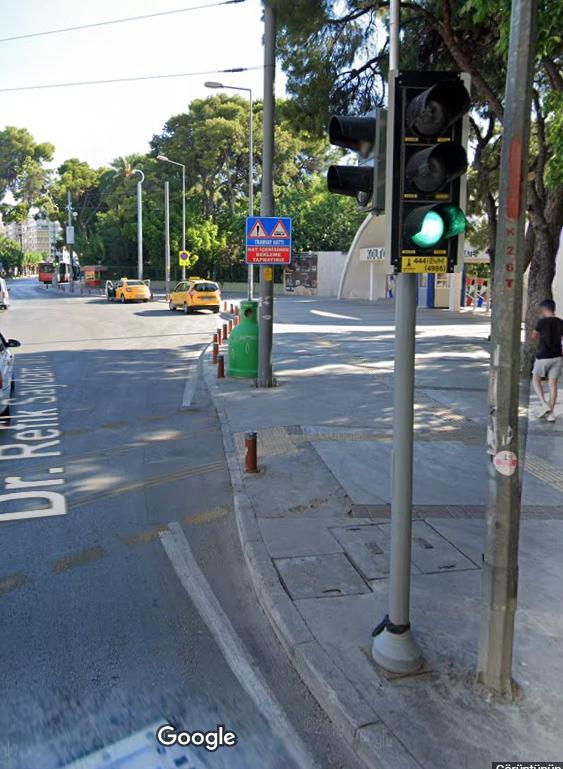greenlight: (396, 76, 463, 264)
